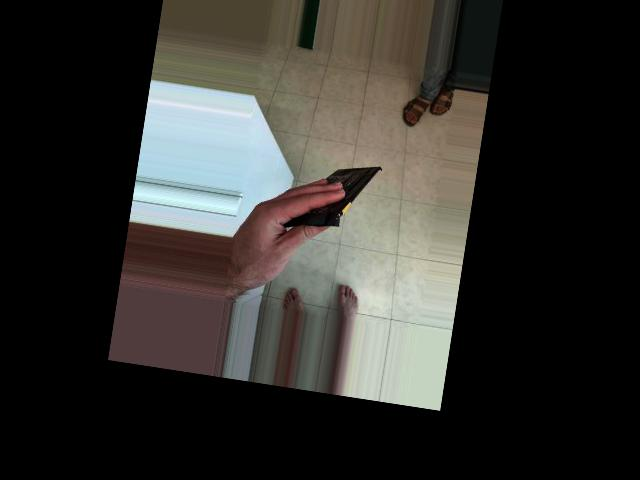chocolate: (267, 146, 384, 248)
